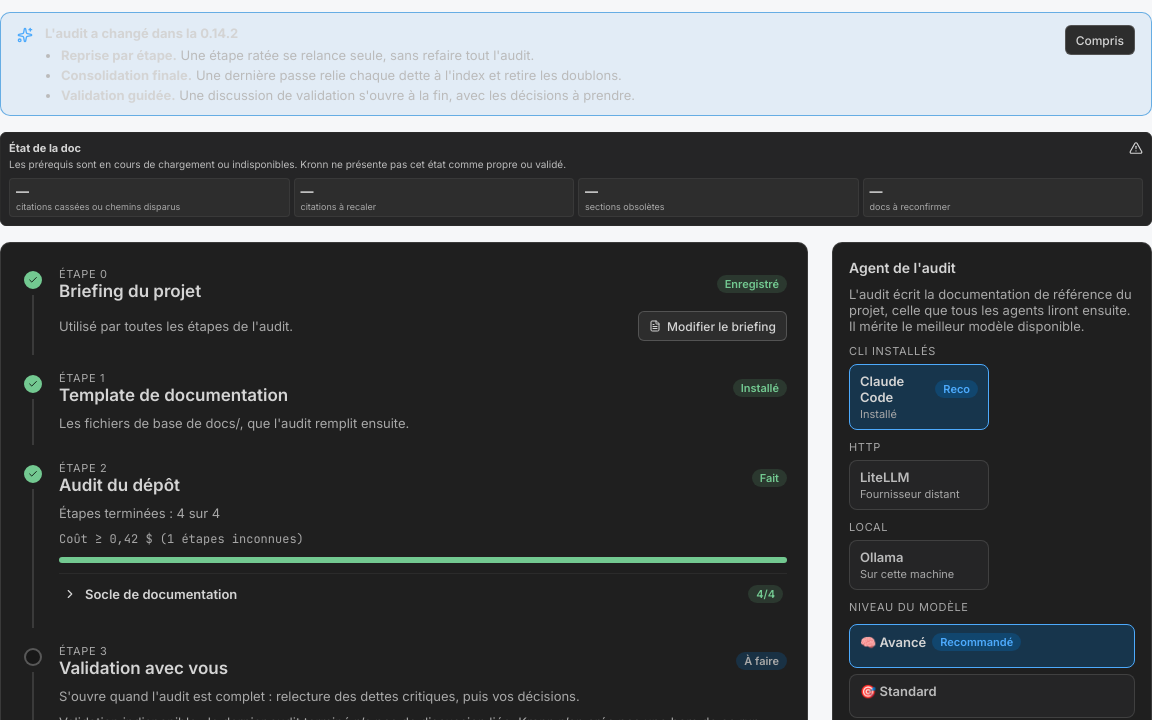
Scenario: AuditTimeline › shows each step's reported cost, a real zero as 0 and an unreported one as unknown (KT-997)
The image size is (1152, 720).
Click the button with class "audit-tl-group-head" at (161,594), box [59,574,787,614]
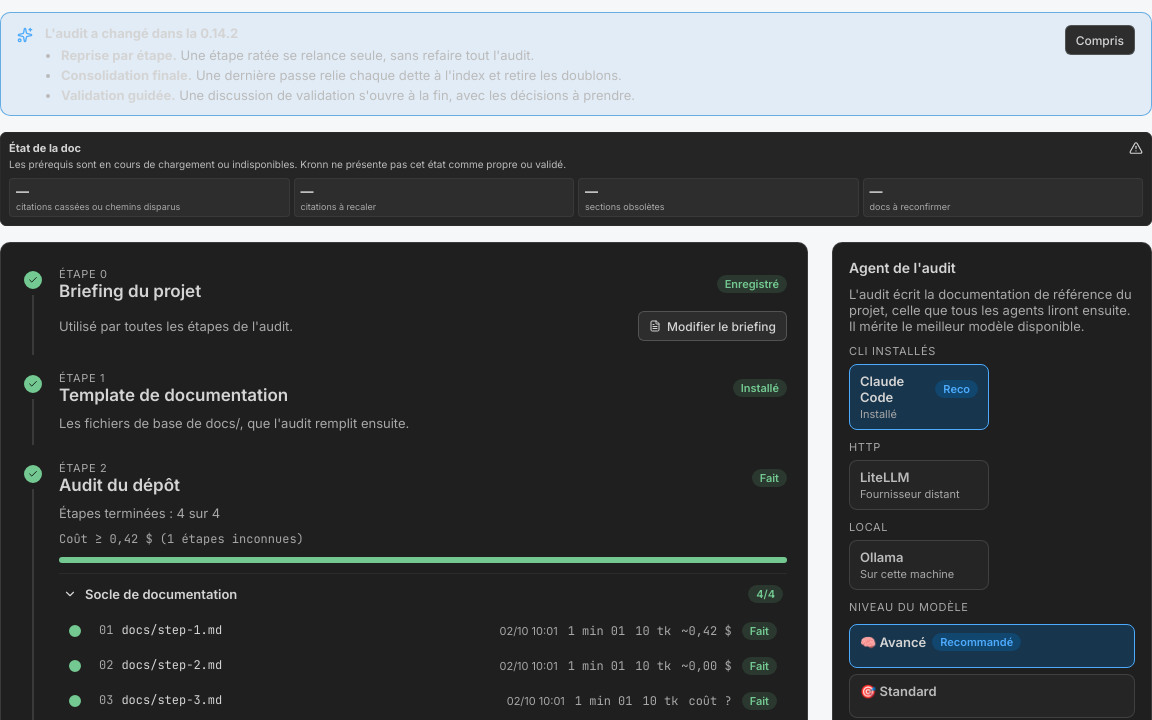
Check: the text with test id "audit-timeline-step-cost-1" reads "~0,42 $", box [681,623,732,639]
Check: the text with test id "audit-timeline-step-cost-2" reads "~0,00 $", box [681,658,732,674]
Check: the text with test id "audit-timeline-step-cost-3" shows "?", box [688,693,732,709]
